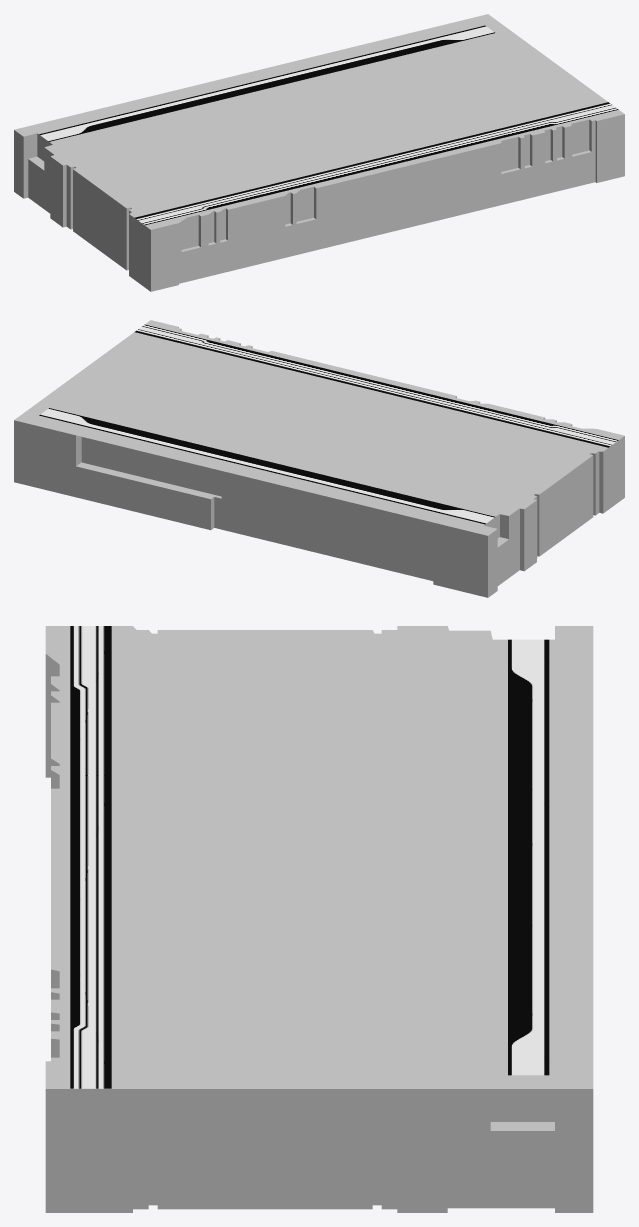
File: Base_Block_01.fbx
The picture shows the model from 3 angles, top to bottom: view 1: azimuth 30°, elevation 25°; view 2: azimuth 150°, elevation 25°; view 3: azimuth 270°, elevation 25°; orthographic projection. The views are drawn at different scales.
Parts seen in each view (by area): view 1: Base_Block_01, Base_Block_01_Decal_Text; view 2: Base_Block_01, Base_Block_01_Decal_Text; view 3: Base_Block_01, Base_Block_01_Decal_Text.
Part boxes in pixels (left/top/right/bottom): Base_Block_01: left=14, top=14, right=624, bottom=291; Base_Block_01_Decal_Text: left=39, top=25, right=618, bottom=225; Base_Block_01: left=14, top=320, right=624, bottom=597; Base_Block_01_Decal_Text: left=39, top=324, right=618, bottom=524; Base_Block_01: left=45, top=626, right=593, bottom=1212; Base_Block_01_Decal_Text: left=70, top=626, right=549, bottom=1088.
Size of the model in its own units: 64 by 8.01 by 32.
